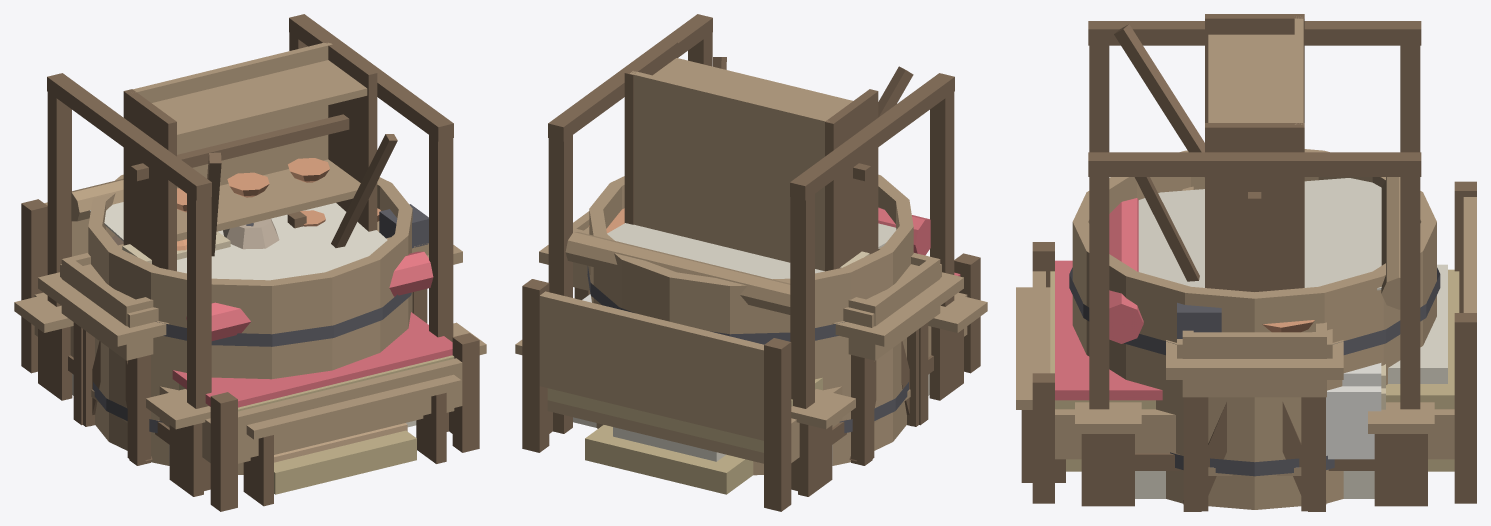
File: interior_props.glb
3 views of the same model, side by side, from view 1: azimuth 30°, elevation 25°; view 2: azimuth 150°, elevation 25°; view 3: azimuth 270°, elevation 25° (orthographic). The views are drawn at different scales.
Visible parts, largest first — view 1: prop_loom, prop_shelf, prop_mash_tun, prop_bed, prop_table, prop_workbench, prop_pallet, prop_kneading, prop_vat, prop_wheel; view 2: prop_shelf, prop_bed, prop_loom, prop_mash_tun, prop_table, prop_pallet, prop_kneading, prop_workbench; view 3: prop_loom, prop_mash_tun, prop_bed, prop_shelf, prop_table, prop_kneading, prop_hearth, prop_workbench, prop_vat, prop_pallet.
Boxes of the visible parts, left/top/right/bottom form: prop_loom: left=47, top=14, right=461, bottom=506; prop_shelf: left=123, top=40, right=377, bottom=271; prop_mash_tun: left=88, top=152, right=412, bottom=474; prop_bed: left=21, top=199, right=479, bottom=511; prop_table: left=14, top=208, right=486, bottom=496; prop_workbench: left=60, top=204, right=428, bottom=465; prop_pallet: left=274, top=423, right=416, bottom=494; prop_kneading: left=61, top=237, right=390, bottom=458; prop_vat: left=331, top=134, right=397, bottom=247; prop_wheel: left=223, top=218, right=279, bottom=249; prop_shelf: left=624, top=40, right=878, bottom=271; prop_bed: left=522, top=253, right=980, bottom=511; prop_loom: left=548, top=14, right=954, bottom=490; prop_mash_tun: left=587, top=66, right=913, bottom=475; prop_table: left=515, top=208, right=987, bottom=496; prop_pallet: left=585, top=425, right=753, bottom=494; prop_kneading: left=573, top=211, right=940, bottom=458; prop_workbench: left=574, top=227, right=941, bottom=465; prop_loom: left=1016, top=21, right=1421, bottom=482; prop_mash_tun: left=1069, top=24, right=1440, bottom=509; prop_bed: left=1032, top=181, right=1476, bottom=503; prop_shelf: left=1205, top=14, right=1304, bottom=291; prop_table: left=1075, top=320, right=1434, bottom=506; prop_kneading: left=1182, top=186, right=1326, bottom=511; prop_hearth: left=1135, top=363, right=1385, bottom=498; prop_workbench: left=1177, top=302, right=1332, bottom=511; prop_vat: left=1134, top=177, right=1199, bottom=281; prop_pallet: left=1066, top=459, right=1454, bottom=471.
Size of the model in its own units: 2 by 1.82 by 2.08.
